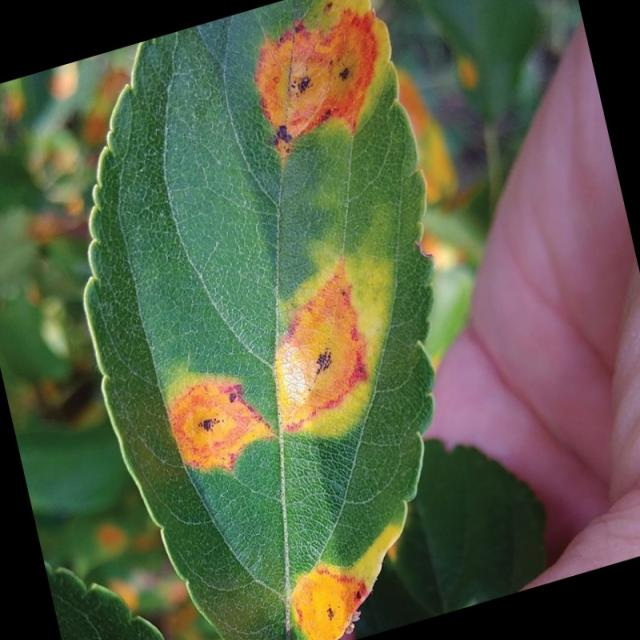Gymnosporangium_Rusts: (82, 1, 438, 637)
